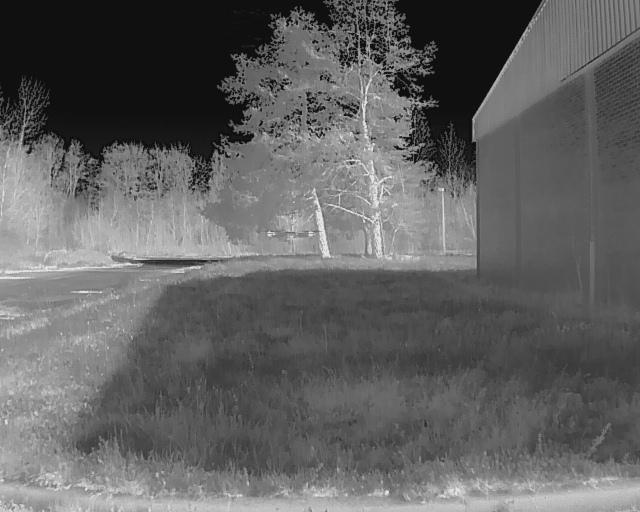drone: (253, 222, 318, 252)
